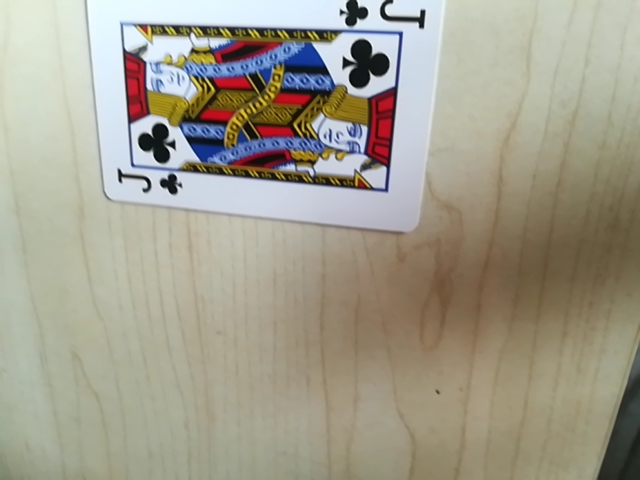mh j: (341, 0, 434, 30), (112, 164, 182, 201)
